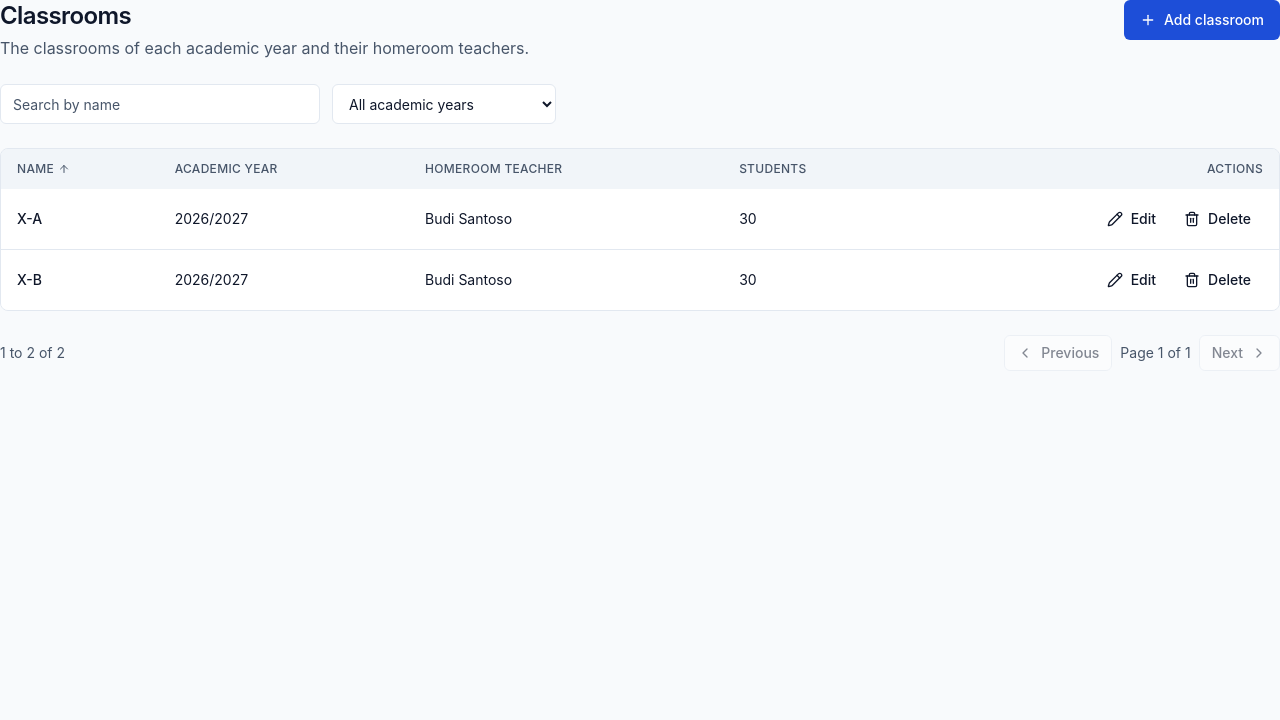
Test: ClassroomsPage › does not let the academic year of a saved classroom change
Click the button "Edit" in the row of "X-A". click: {"x": 1131, "y": 219}
box: top-left (1095, 201), bottom-right (1168, 237)
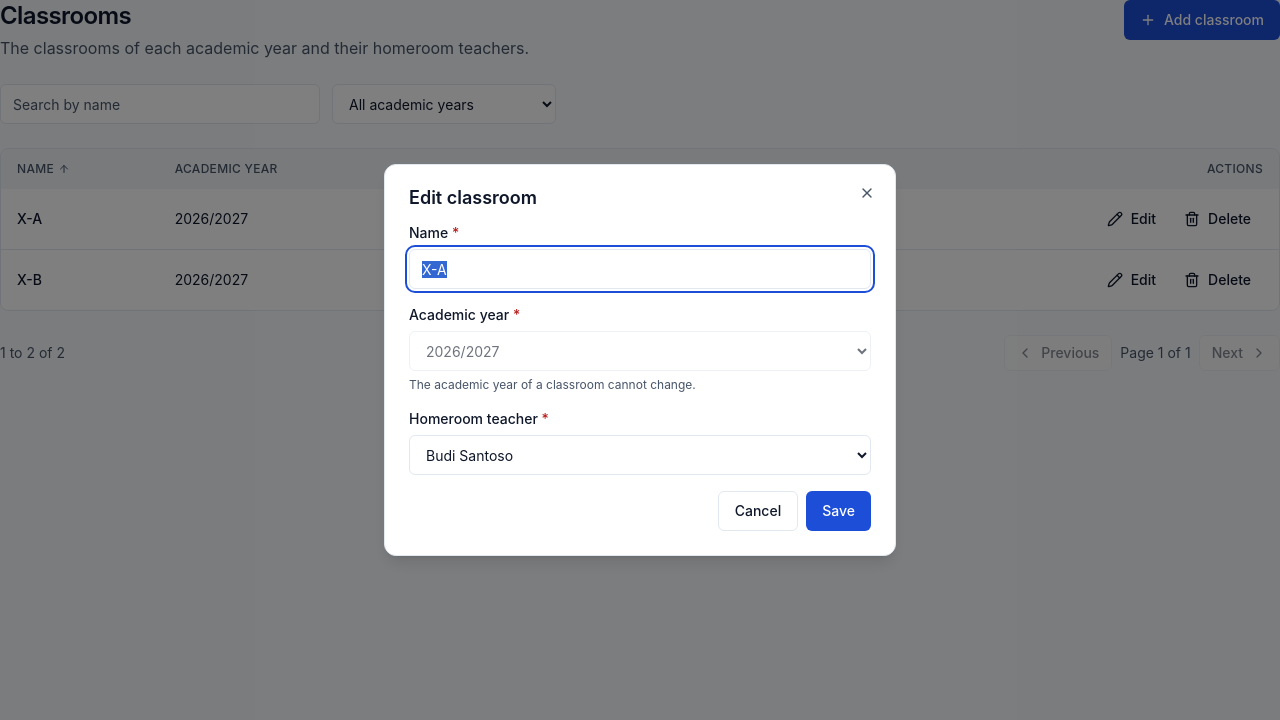
Expected: the dropdown labelled "Academic year *" is disabled, top-left (409, 331), bottom-right (871, 371)
